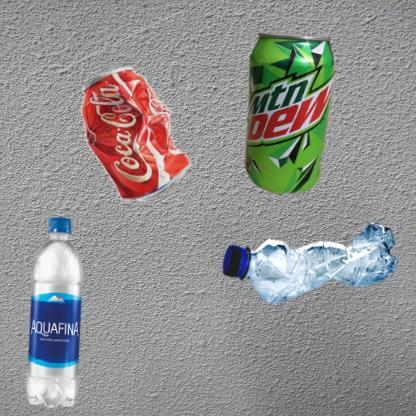botella: (213, 213, 409, 313), (10, 213, 104, 416)
lata: (10, 10, 286, 287), (213, 10, 369, 213)
